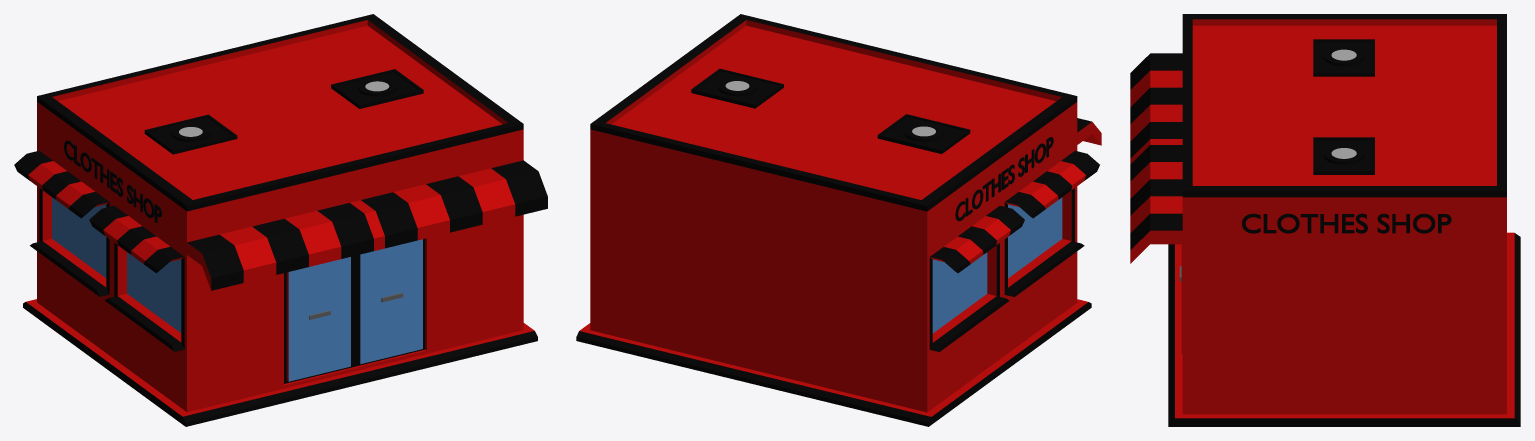
The model's file is CLOTHES SHOP_Material.021.glb.
3 renders of one model, left to right at view 1: azimuth 30°, elevation 25°; view 2: azimuth 150°, elevation 25°; view 3: azimuth 270°, elevation 25°, orthographic. The views are drawn at different scales.
Parts seen in each view (by area): view 1: CLOTHES SHOP_Material.021_0; view 2: CLOTHES SHOP_Material.021_0; view 3: CLOTHES SHOP_Material.021_0.
Boxes of the visible parts, x1,y1,x2,y2 form: CLOTHES SHOP_Material.021_0: [14, 14, 547, 426]; CLOTHES SHOP_Material.021_0: [576, 14, 1101, 426]; CLOTHES SHOP_Material.021_0: [1130, 14, 1520, 426].
Size of the model in its own units: 1.91 by 1.06 by 1.62.
1 material, 1 textured.
